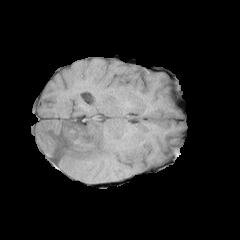glioma: (37, 118, 147, 173)
